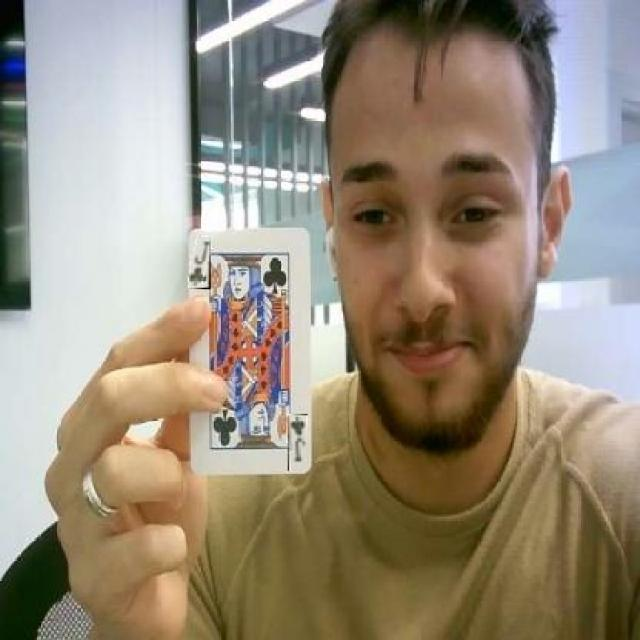JC: (189, 237, 211, 289), (288, 414, 308, 471)
